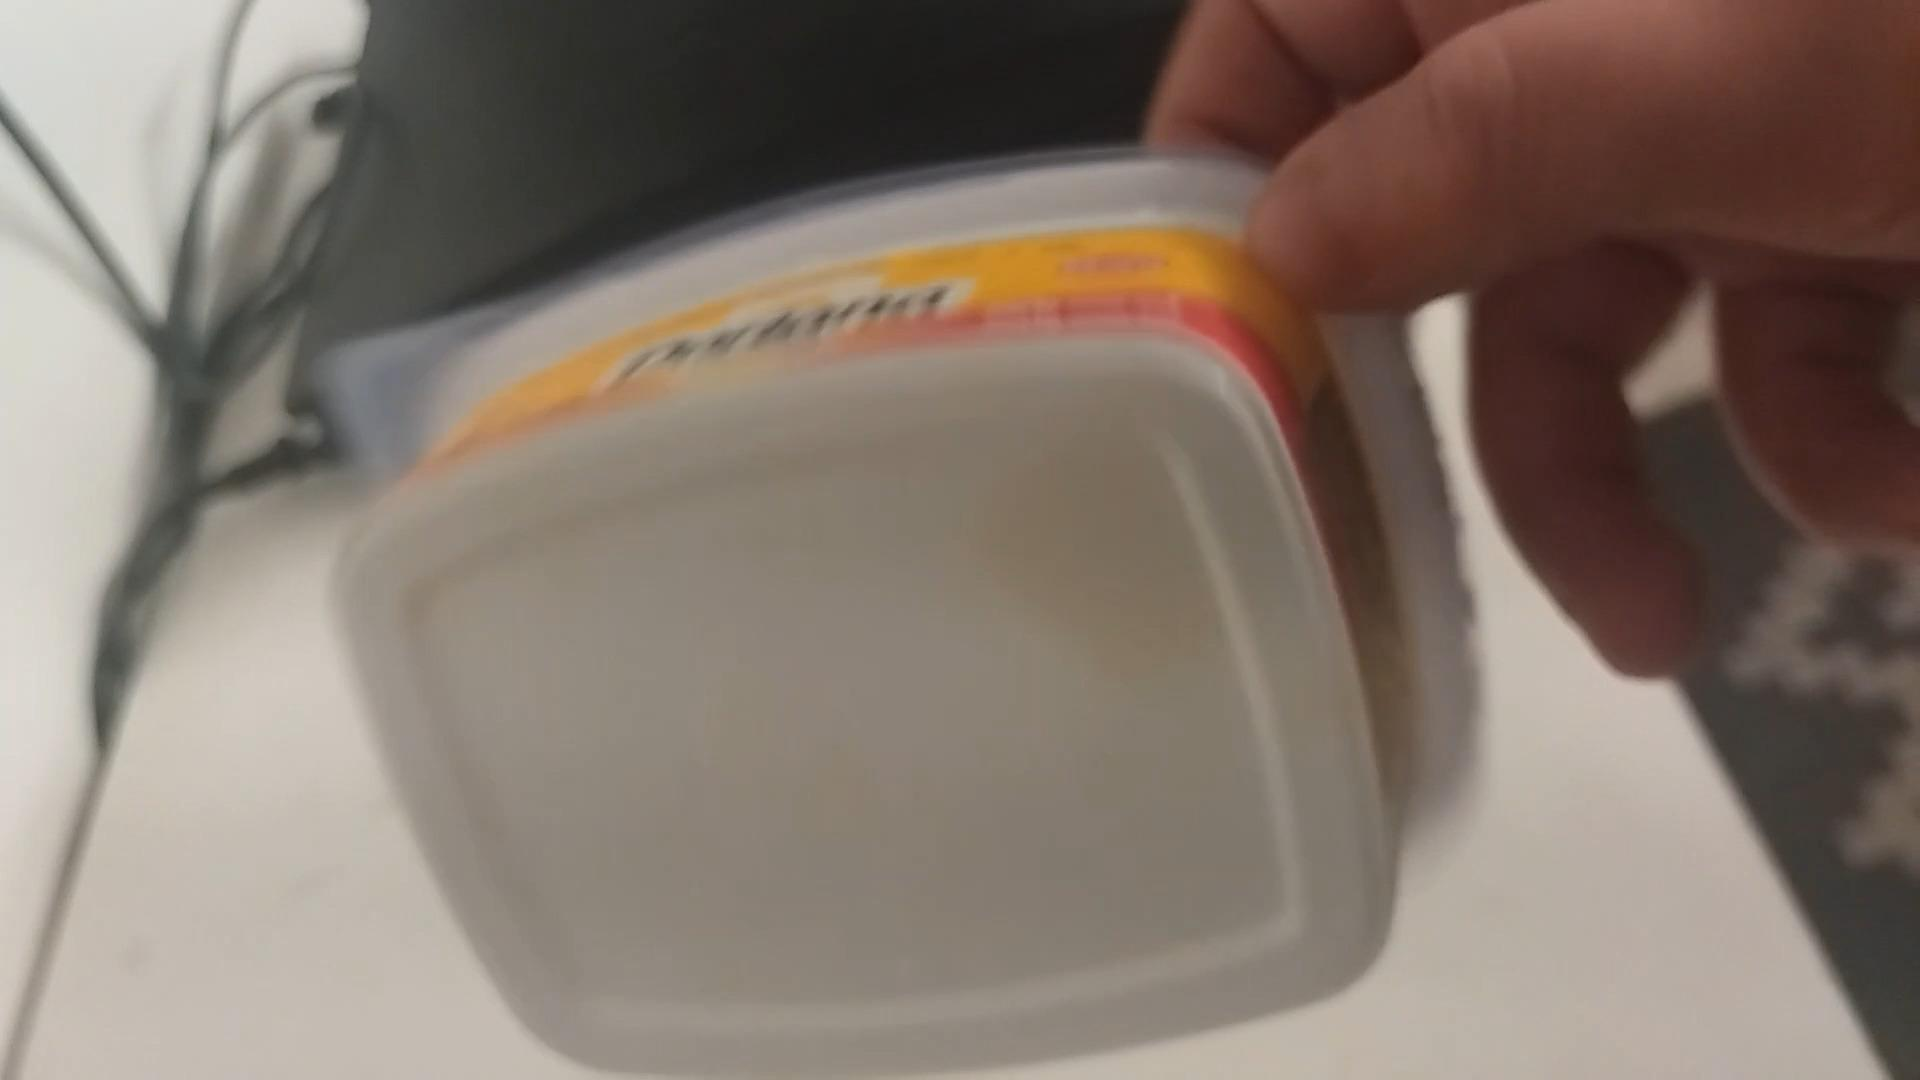butter: (319, 142, 1453, 1080)
